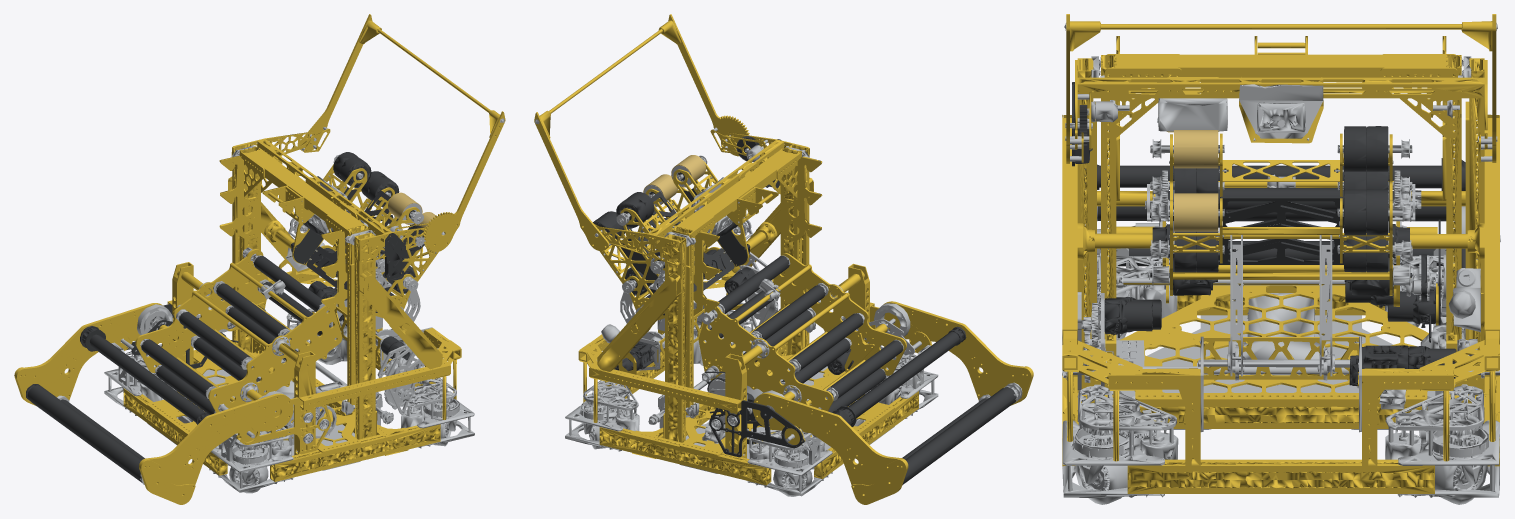
Rendered from gold-rush-27.glb.
3 renders of one model, left to right at view 1: azimuth 30°, elevation 25°; view 2: azimuth 150°, elevation 25°; view 3: azimuth 270°, elevation 25°, orthographic. The views are drawn at different scales.
Parts seen in each view (by area): view 1: frame, shooter, intake, climber, amp; view 2: frame, shooter, intake, climber, amp; view 3: frame, shooter, climber, amp, intake.
Boxes of the visible parts, x1,y1,x2,y2 form: frame: [14, 139, 474, 504]; shooter: [288, 152, 438, 317]; intake: [111, 262, 336, 461]; climber: [219, 146, 368, 412]; amp: [231, 14, 505, 263]; frame: [565, 139, 1033, 504]; shooter: [593, 155, 752, 320]; intake: [707, 263, 931, 464]; climber: [672, 147, 822, 415]; amp: [534, 14, 809, 265]; frame: [1062, 54, 1499, 504]; shooter: [1145, 126, 1417, 295]; climber: [1093, 36, 1469, 344]; amp: [1064, 14, 1497, 163]; intake: [1085, 191, 1500, 342].
Bounding box in the file's own units: 1.11 × 0.9605 × 0.7245.
